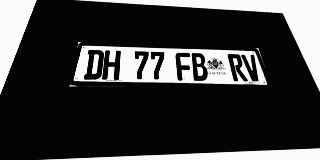7: (149, 52, 166, 80), (133, 51, 149, 80)
B: (190, 53, 209, 81)
D: (83, 50, 104, 80)
F: (175, 52, 193, 81)
H: (102, 50, 121, 80)
R: (227, 54, 248, 81)
V: (241, 54, 263, 81)
